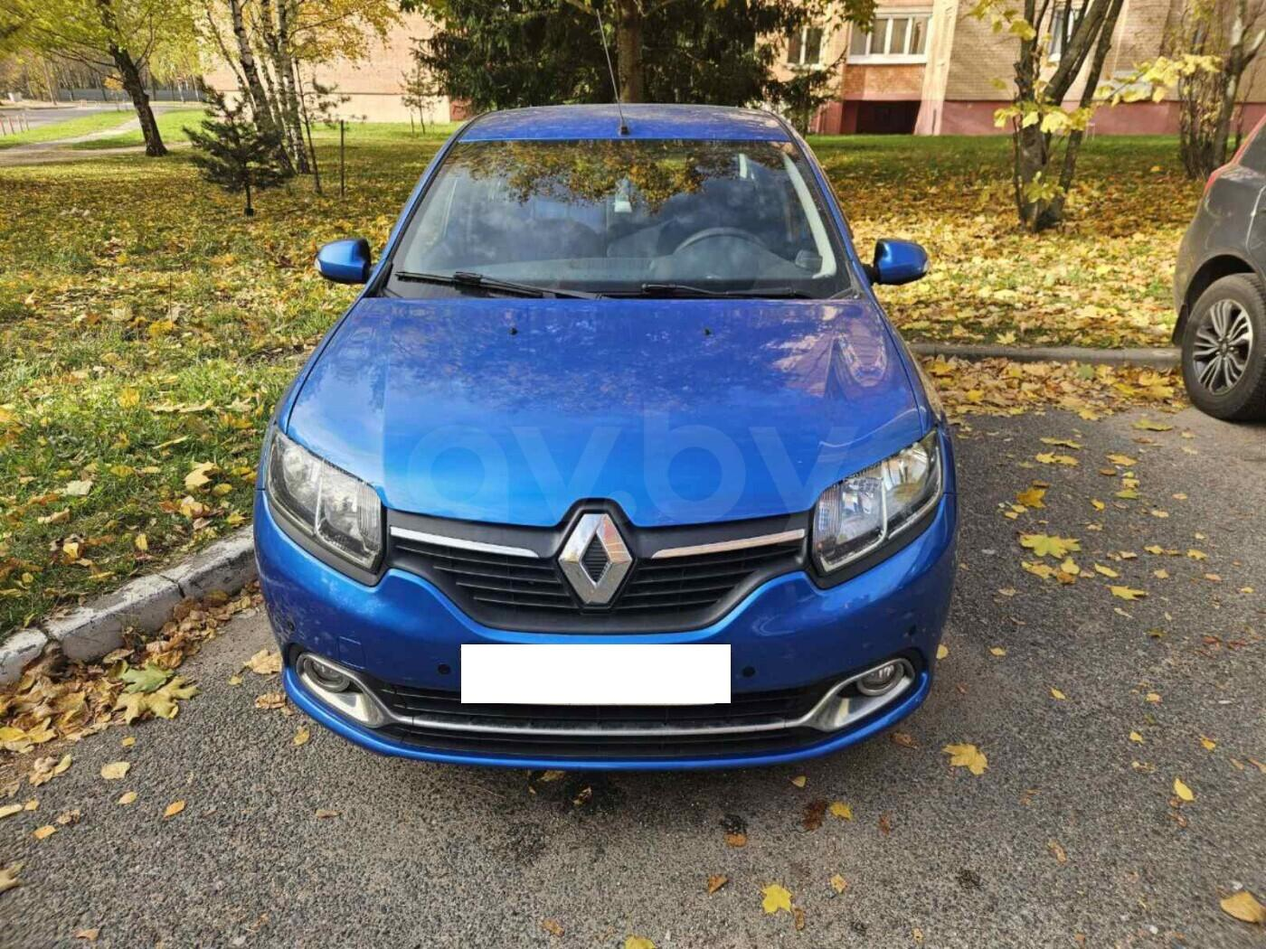Logan_2013-2018: (251, 83, 970, 762)
